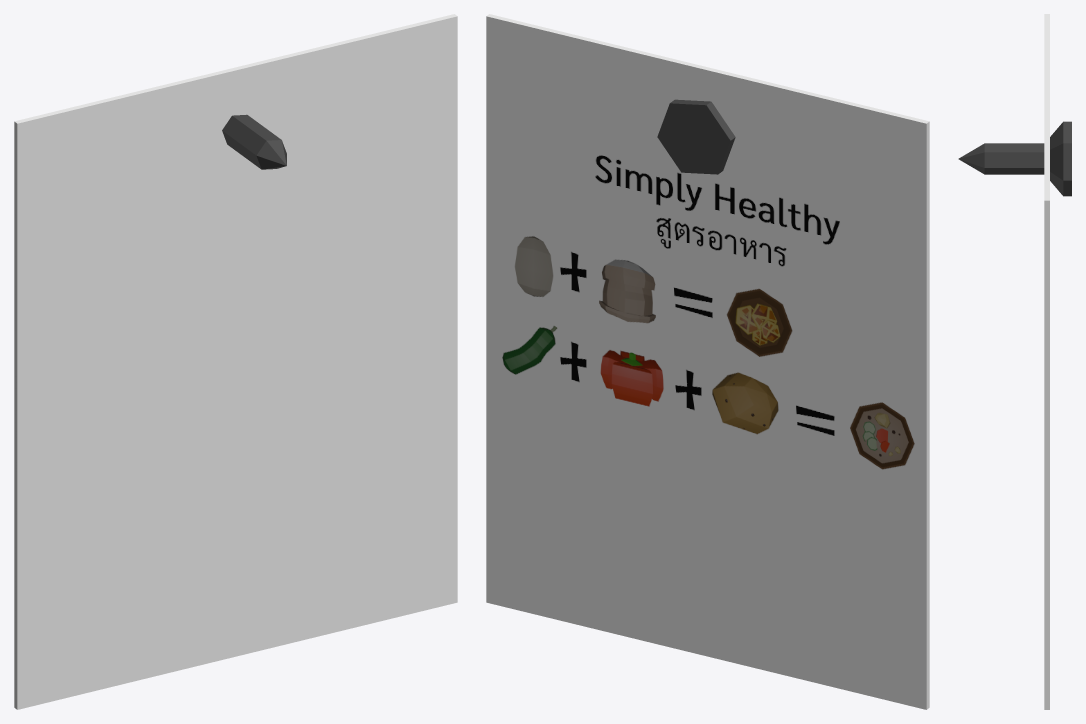
File: recipe.glb
3 renders of one model, left to right at view 1: azimuth 30°, elevation 25°; view 2: azimuth 150°, elevation 25°; view 3: azimuth 270°, elevation 25°, orthographic. The views are drawn at different scales.
Visible parts, largest first — view 1: Cylinder; view 2: Cylinder; view 3: Cylinder.
Boxes of the visible parts, <box> form: Cylinder: <box>14,14,457,709</box>; Cylinder: <box>486,14,929,709</box>; Cylinder: <box>958,14,1071,709</box>.
Bounding box in the file's own units: 1.57 × 2 × 0.4053.
Materials: 2 (1 with a texture image).
